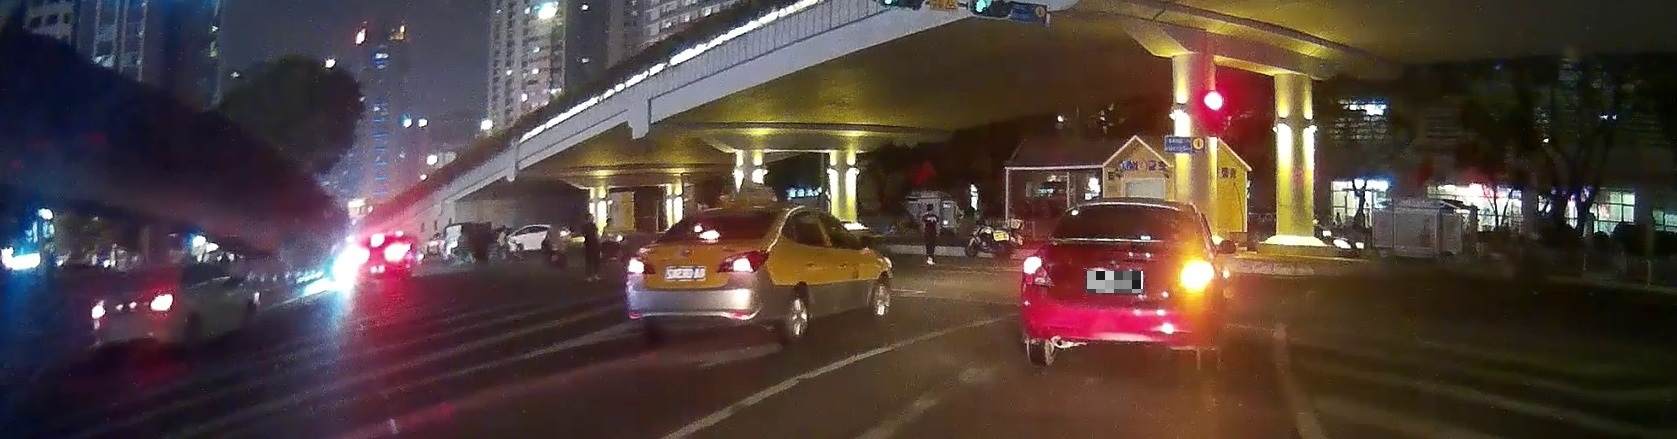L_light: (1024, 256, 1053, 287), (627, 257, 655, 274)
R_light: (716, 249, 768, 273), (1178, 263, 1211, 291)
T_light: (1116, 206, 1145, 212), (699, 232, 720, 239)
night-brake: (626, 206, 781, 346)
night-right: (1021, 199, 1224, 369)
plate_1: (1087, 271, 1143, 293)
